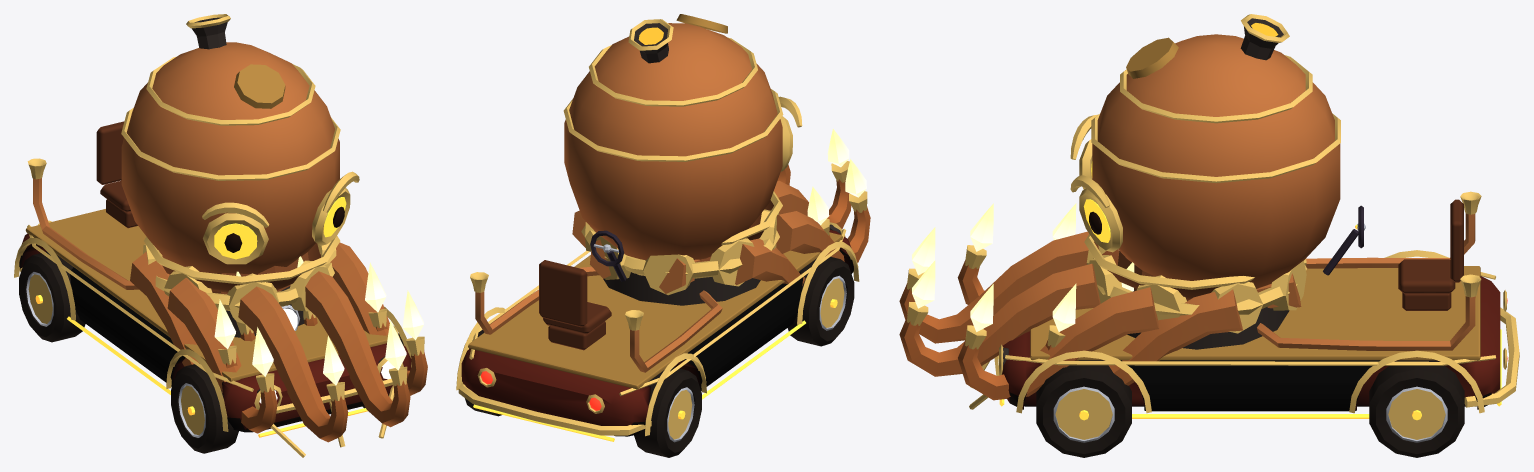
The model's file is calamari_inferno_lo.glb.
3 views of the same model, side by side, from view 1: azimuth 30°, elevation 25°; view 2: azimuth 150°, elevation 25°; view 3: azimuth 270°, elevation 25° (orthographic). The views are drawn at different scales.
Visible parts, largest first — view 1: mantle, hull, deck, arm0_tube, arm7_tube, arm6_tube, wheel_FR_tyre, wheel_RR_tyre, arm1_tube, arm5_tube, skirt_rim, hatch (+29 smaller); view 2: mantle, deck, hull, wheel_RR_tyre, seat_back, wheel_FR_tyre, arm6_tube, boiler, bumper_rear, arm5_tube, mantle_band_1, pipe_0 (+26 smaller); view 3: mantle, deck, hull, arm0_tube, arm1_tube, wheel_RL_tyre, arm7_tube, wheel_FL_tyre, arm2_tube, pipe_1, shoulder_1, wheel_FL_dish (+27 smaller).
Part boxes in pixels (x1,y1,x2,y2): mantle: [121, 42, 339, 274]; hull: [19, 233, 411, 432]; deck: [25, 209, 400, 381]; arm0_tube: [305, 271, 410, 427]; arm7_tube: [238, 286, 348, 442]; arm6_tube: [167, 278, 277, 433]; wheel_FR_tyre: [171, 363, 238, 453]; wheel_RR_tyre: [19, 251, 85, 342]; arm1_tube: [320, 242, 427, 395]; arm5_tube: [130, 251, 237, 368]; skirt_rim: [144, 236, 340, 284]; hatch: [234, 64, 285, 108]; mantle: [564, 23, 782, 259]; deck: [468, 232, 842, 389]; hull: [461, 229, 853, 436]; wheel_RR_tyre: [634, 367, 701, 457]; seat_back: [539, 260, 587, 327]; wheel_FR_tyre: [787, 256, 854, 346]; arm6_tube: [776, 206, 870, 262]; boiler: [603, 272, 760, 305]; bumper_rear: [458, 381, 651, 435]; arm5_tube: [735, 234, 830, 285]; mantle_band_1: [563, 89, 783, 161]; pipe_0: [630, 290, 722, 372]; mantle: [1092, 34, 1340, 288]; deck: [1030, 266, 1480, 360]; hull: [1002, 276, 1500, 411]; arm0_tube: [899, 263, 1100, 376]; arm1_tube: [958, 287, 1159, 400]; wheel_RL_tyre: [1369, 360, 1464, 457]; arm7_tube: [899, 231, 1088, 343]; wheel_FL_tyre: [1036, 360, 1131, 457]; arm2_tube: [1045, 289, 1242, 385]; pipe_1: [1257, 296, 1475, 350]; shoulder_1: [1005, 355, 1495, 365]; wheel_FL_dish: [1055, 389, 1112, 439].
Bounding box in the file's own units: 2.62 × 4.37 × 6.33.
